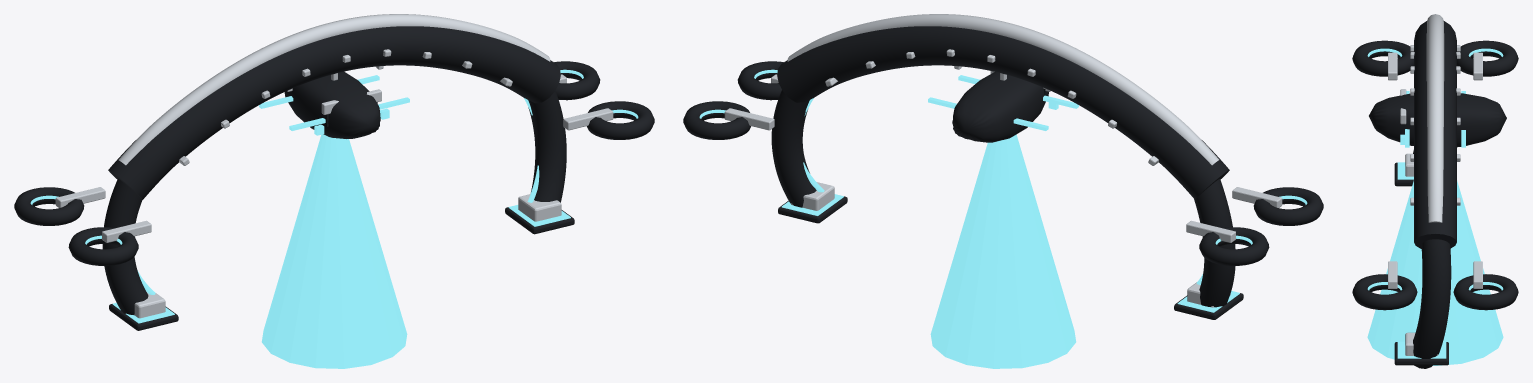
The model's file is hauler.glb.
3 renders of one model, left to right at view 1: azimuth 30°, elevation 25°; view 2: azimuth 150°, elevation 25°; view 3: azimuth 270°, elevation 25°, orthographic. The views are drawn at different scales.
Parts seen in each view (by area): view 1: Body, Trim, Chrome; view 2: Body, Trim, Chrome; view 3: Body, Trim, Chrome.
Boxes of the visible parts, x1,y1,x2,y2 form: Body: [14, 26, 654, 330]; Trim: [30, 69, 638, 368]; Chrome: [55, 14, 613, 318]; Body: [683, 26, 1323, 319]; Trim: [699, 69, 1307, 368]; Chrome: [724, 14, 1282, 307]; Body: [1352, 21, 1518, 368]; Trim: [1367, 48, 1503, 365]; Chrome: [1388, 14, 1482, 355].
Size of the model in its own units: 63.5 by 33.19 by 17.1.
